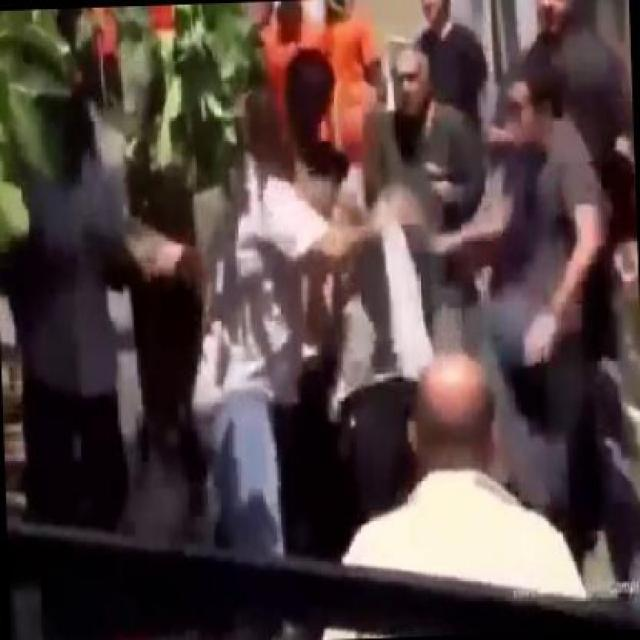fight: (368, 55, 608, 358), (190, 152, 422, 403)
